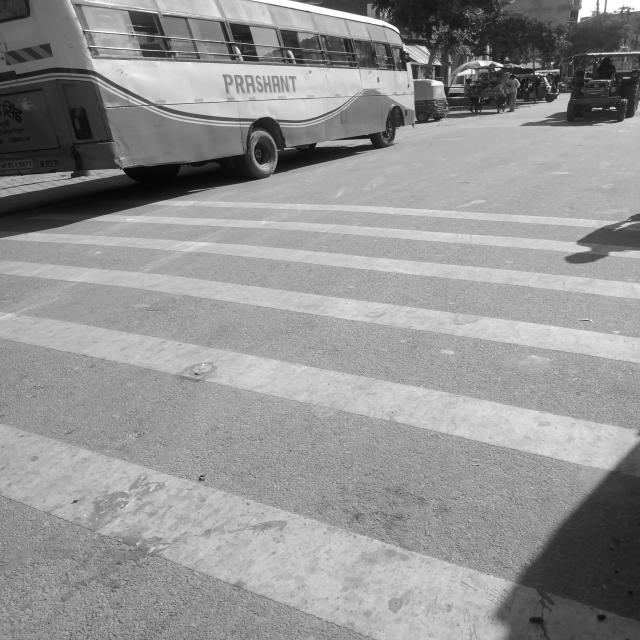Auto: (413, 79, 448, 122), (518, 74, 557, 102)
